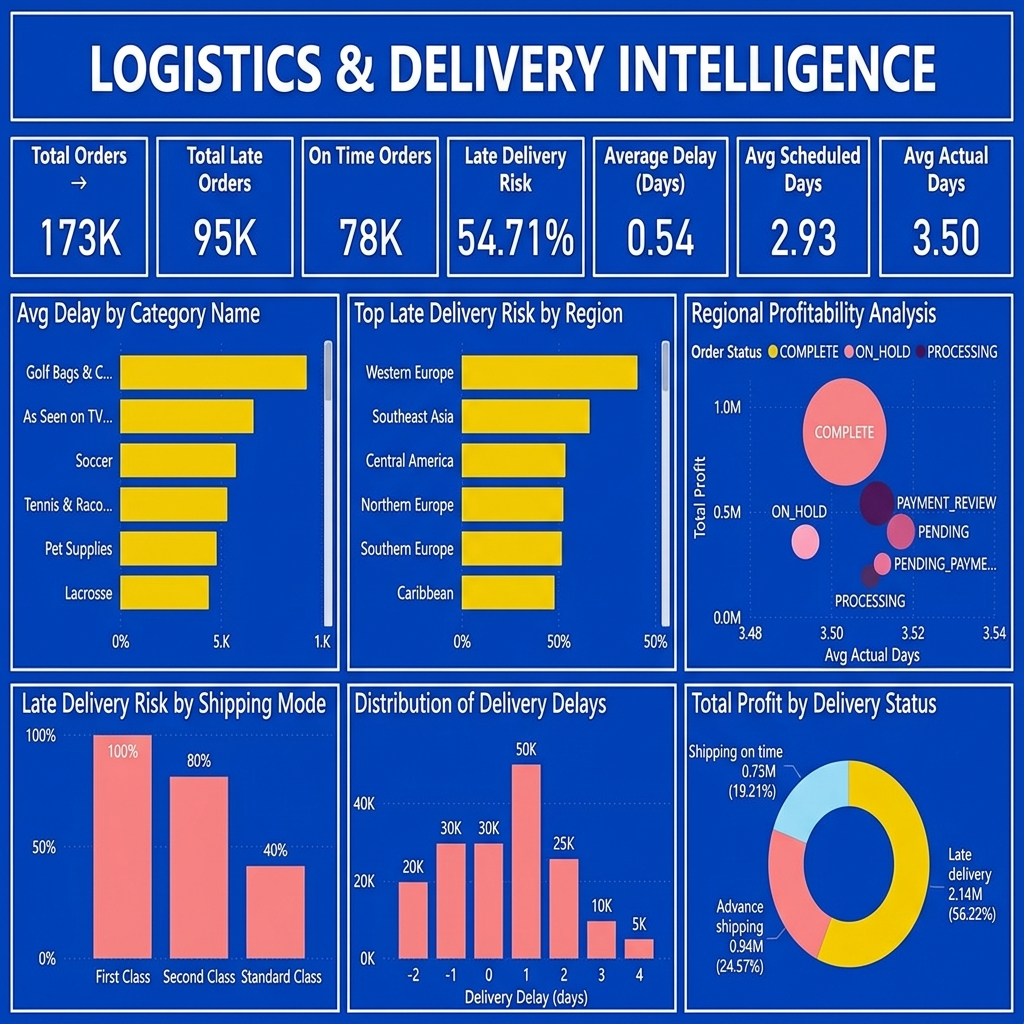

Layout of this report page (visuals, bound fields, positions):
{"tool":"powerbi","page":{"name":"Logistics And Delivery","canvas":[1280,720],"ordinal":1},"visuals":[{"type":"cardVisual","title":"Total Late Orders","fields":{"Data":["CleanedSupplyChainDataset.Total Late Orders"]},"box":[188,64.5,174.3,91.9],"z":0},{"type":"cardVisual","title":"On Time Orders","fields":{"Data":["CleanedSupplyChainDataset.On-Time Orders"]},"box":[371.9,65.9,172.9,91.9],"z":1000},{"type":"cardVisual","title":"Total Orders","fields":{"Data":["CleanedSupplyChainDataset.Total Orders"]},"box":[12.3,64.5,166,91.9],"z":2000},{"type":"cardVisual","title":"Late Delivery Risk","fields":{"Data":["CleanedSupplyChainDataset.Late Delivery Risk %"]},"box":[554.4,65.9,179.8,91.9],"z":3000},{"type":"cardVisual","title":"Average Delay (Days)","fields":{"Data":["CleanedSupplyChainDataset.Avg Delay"]},"box":[743.7,67.2,175.6,91.9],"z":4000},{"type":"cardVisual","title":"Avg Scheduled Days","fields":{"Data":["CleanedSupplyChainDataset.Avg Scheduled Days"]},"box":[929,67.2,170.2,91.9],"z":5000},{"type":"cardVisual","title":"Avg Actual Days","fields":{"Data":["CleanedSupplyChainDataset.Avg Actual Days"]},"box":[1115.6,67.2,149.6,91.9],"z":6000},{"type":"clusteredColumnChart","title":"Distribution of Delivery Delays","fields":{"Category":["CleanedSupplyChainDataset.Delay"],"Y":["CountNonNull(CleanedSupplyChainDataset.Sales)"]},"box":[349.9,414.4,569.5,293.7],"z":7000},{"type":"clusteredBarChart","title":"Top Late Delivery Risk by Region","fields":{"Category":["CleanedSupplyChainDataset.Order Region"],"Y":["CleanedSupplyChainDataset.Late Delivery Risk %"]},"box":[417.2,171.5,403.4,230.5],"z":8000},{"type":"clusteredColumnChart","title":"Late Delivery Risk by Shipping Mode","fields":{"Category":["CleanedSupplyChainDataset.Shipping Mode"],"Y":["CleanedSupplyChainDataset.Late Delivery Risk %"]},"box":[15.1,414.4,319.7,293.7],"z":9000},{"type":"clusteredBarChart","fields":{"Category":["CleanedSupplyChainDataset.Category Name"],"Y":["CleanedSupplyChainDataset.Avg Delay"]},"box":[15.1,171.5,388.3,230.5],"z":10000},{"type":"textbox","box":[201.7,0,871.4,76.8],"z":12000},{"type":"scatterChart","title":"Regional Profitability Analysis","fields":{"X":["CleanedSupplyChainDataset.Avg Actual Days"],"Y":["CleanedSupplyChainDataset.Total Profit"],"Size":["CleanedSupplyChainDataset.Total Sales"],"Series":["CleanedSupplyChainDataset.Order Status"]},"box":[843.9,171.5,421.3,230.5],"z":13000},{"type":"pieChart","fields":{"Category":["CleanedSupplyChainDataset.Delivery Status"],"Y":["CleanedSupplyChainDataset.Total Profit"]},"box":[924.9,414.4,340.3,293.7],"z":14000}]}

Visuals, with their boxes on the page's 1280x720 design canvas (x1, y1, x2, y2). These are canvas units, not pixel positions in the 1024x1024 screenshot, which may show the page scaled, cropped or inside an application window:
"Total Late Orders" cardVisual: bbox=[188, 64, 362, 156]
"On Time Orders" cardVisual: bbox=[372, 66, 545, 158]
"Total Orders" cardVisual: bbox=[12, 64, 178, 156]
"Late Delivery Risk" cardVisual: bbox=[554, 66, 734, 158]
"Average Delay (Days)" cardVisual: bbox=[744, 67, 919, 159]
"Avg Scheduled Days" cardVisual: bbox=[929, 67, 1099, 159]
"Avg Actual Days" cardVisual: bbox=[1116, 67, 1265, 159]
"Distribution of Delivery Delays" clusteredColumnChart: bbox=[350, 414, 919, 708]
"Top Late Delivery Risk by Region" clusteredBarChart: bbox=[417, 172, 821, 402]
"Late Delivery Risk by Shipping Mode" clusteredColumnChart: bbox=[15, 414, 335, 708]
clusteredBarChart - CleanedSupplyChainDataset.Category Name x CleanedSupplyChainDataset.Avg Delay: bbox=[15, 172, 403, 402]
textbox: bbox=[202, 0, 1073, 77]
"Regional Profitability Analysis" scatterChart: bbox=[844, 172, 1265, 402]
pieChart - CleanedSupplyChainDataset.Delivery Status x CleanedSupplyChainDataset.Total Profit: bbox=[925, 414, 1265, 708]
